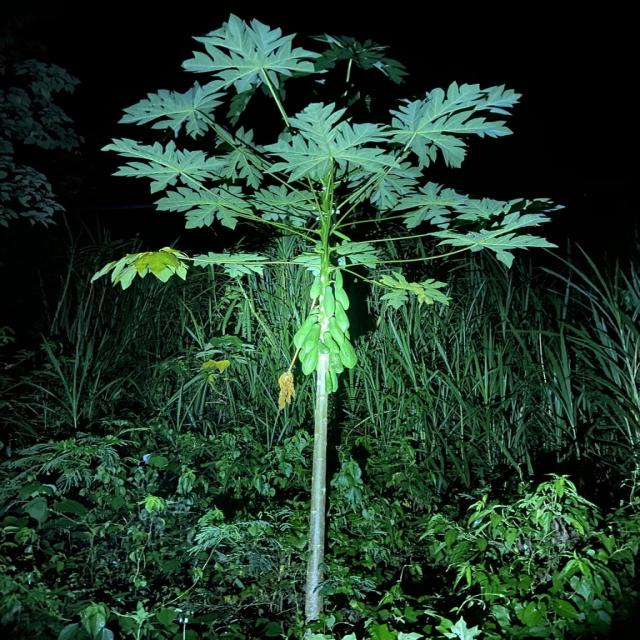Papaya-Tree: (92, 1, 565, 621)
